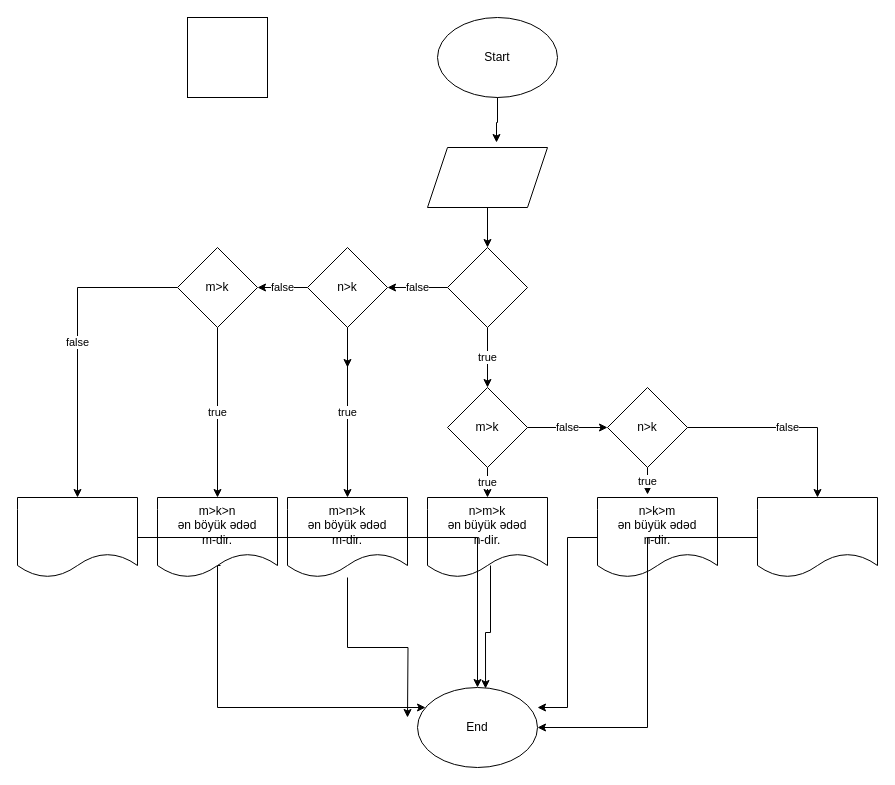
Some shapes in this 895 by 785 pixel diagram are drawn without their labels. Each missing label, with the centre of its shape:
"k>m>n ən büyük ədəd k-dir." belongs at [77,537].
"k>n>m ən böyük ədəd k-dir." belongs at [817,537].
"n,m,k" belongs at [487,177].
"n>m" belongs at [487,287].
"Verilmiş 3 ədəddən ən böyüyünü tapan alqoritm" belongs at [227,57].
